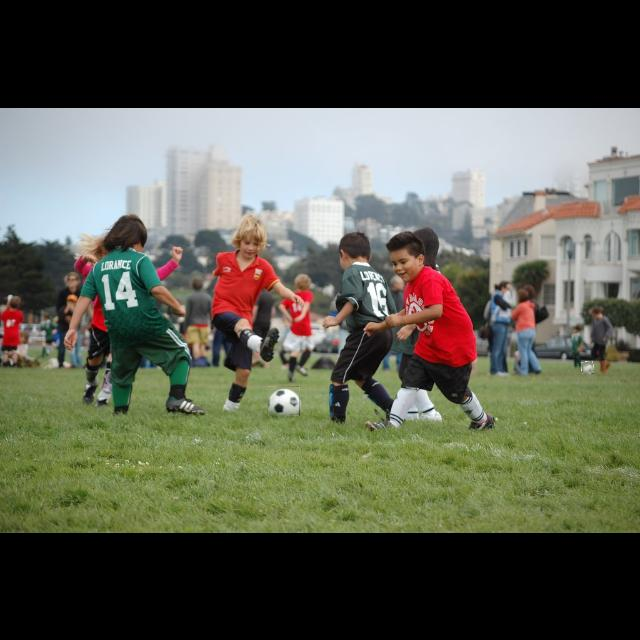Football: (268, 386, 300, 416), (582, 362, 594, 374)
